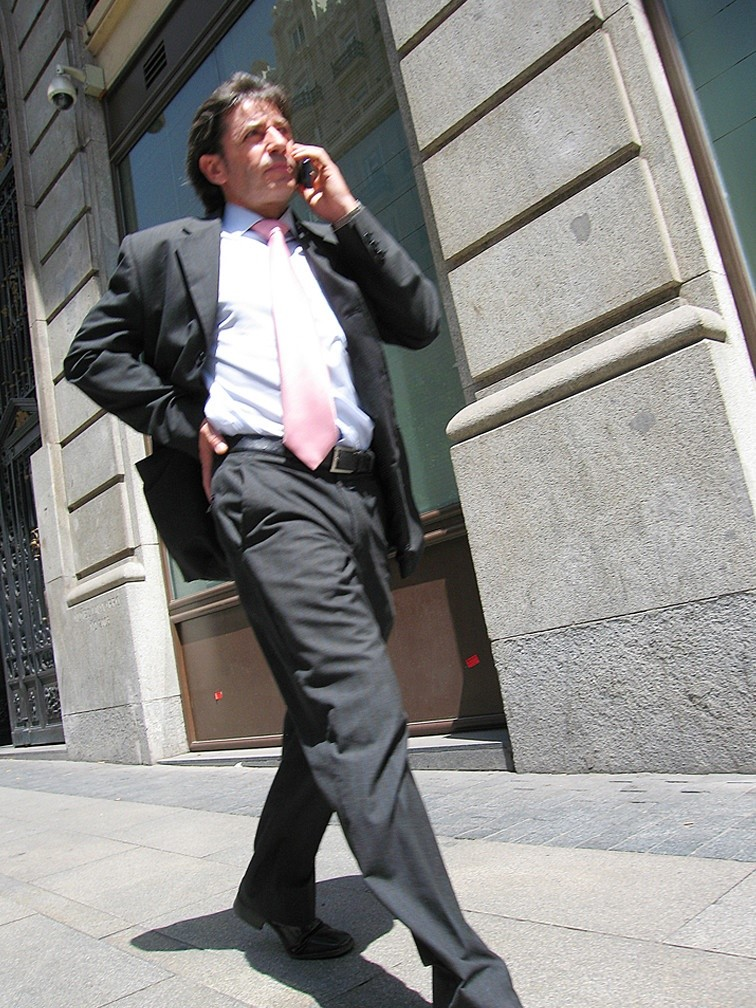face_no_mask: (188, 72, 301, 208)
